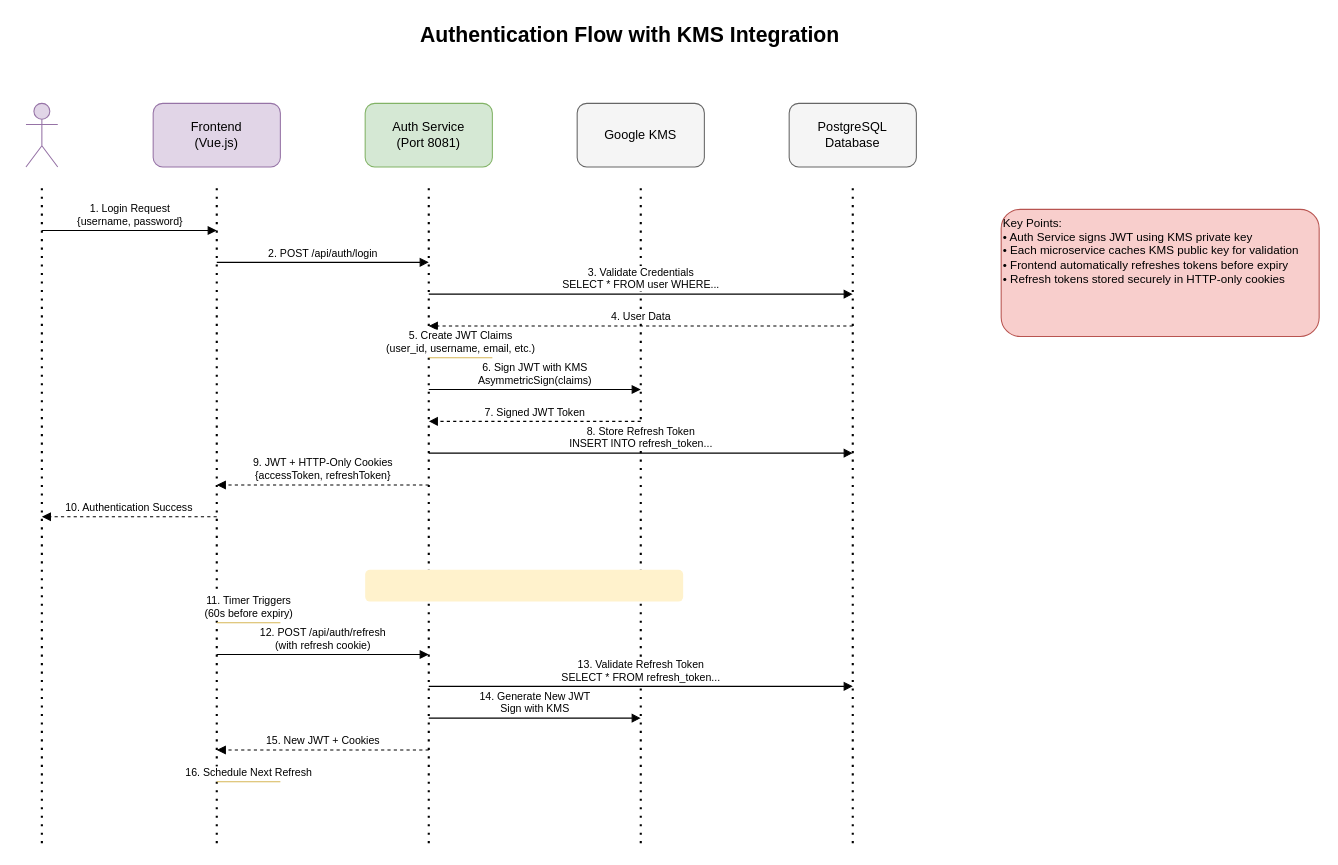
This 1338x865 diagram has some shape labels left out. Each missing label, with the centre of its shape:
"Browser" goes at (41,134).
"Token Refresh Flow (Automatic)" goes at (524,585).
